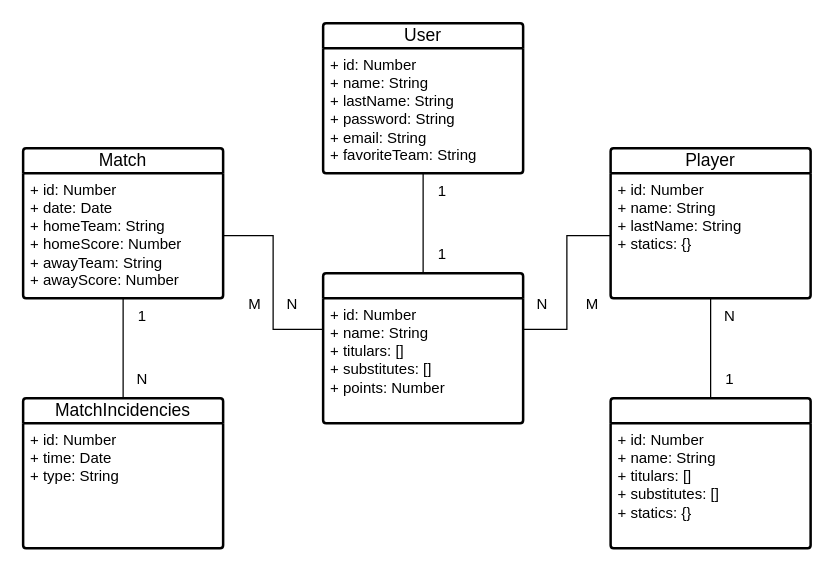
Some shapes in this 833 by 570 pixel diagram are drawn without their labels. Here are the shapes that lost their labels. From the top down, the box of each, then its label:
(321, 271, 524, 424): UserTeam
(609, 396, 811, 549): RealTeam
